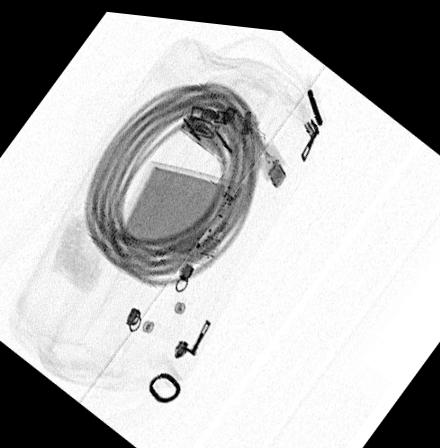Powerbank: (112, 156, 246, 263)
